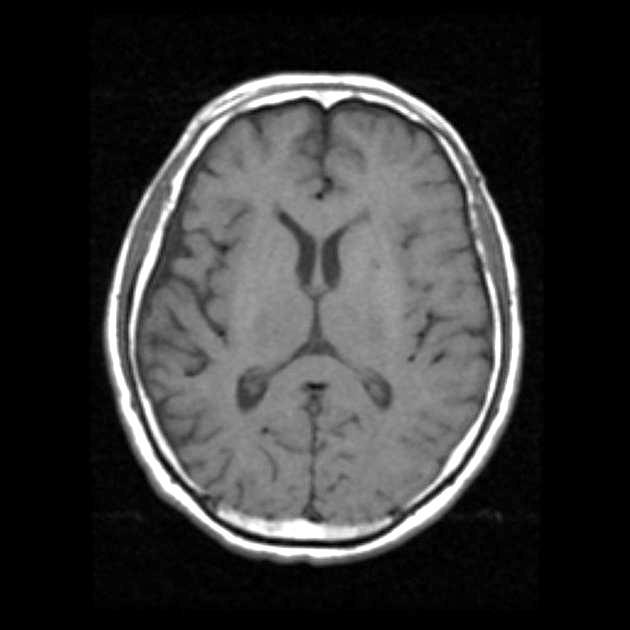Normal_Brain: (36, 1, 535, 566)
